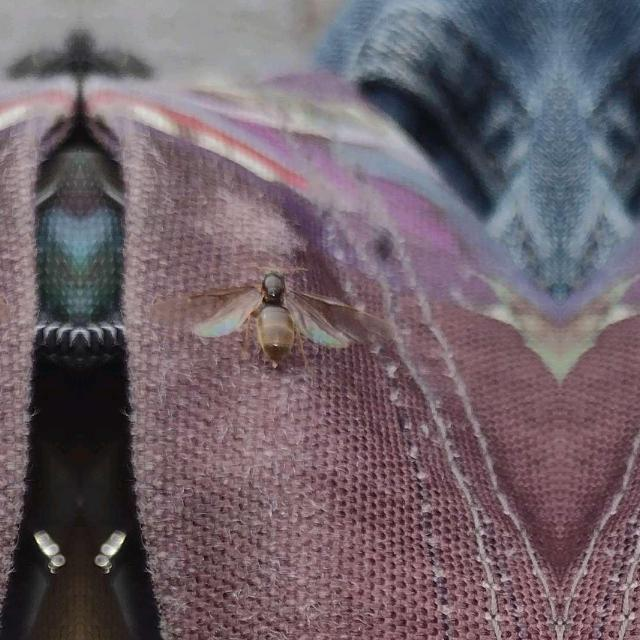Lasius: (206, 258, 334, 366)
